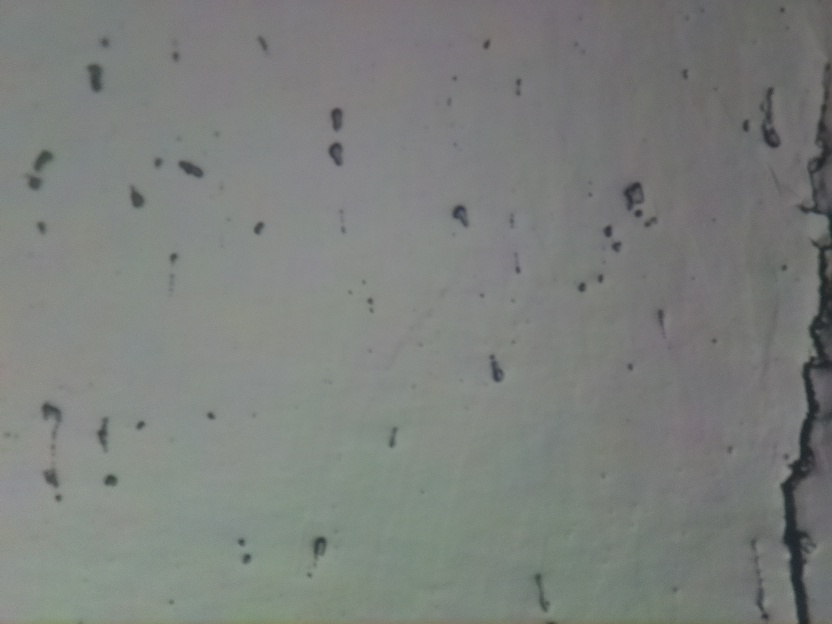crack: (781, 52, 832, 624)
